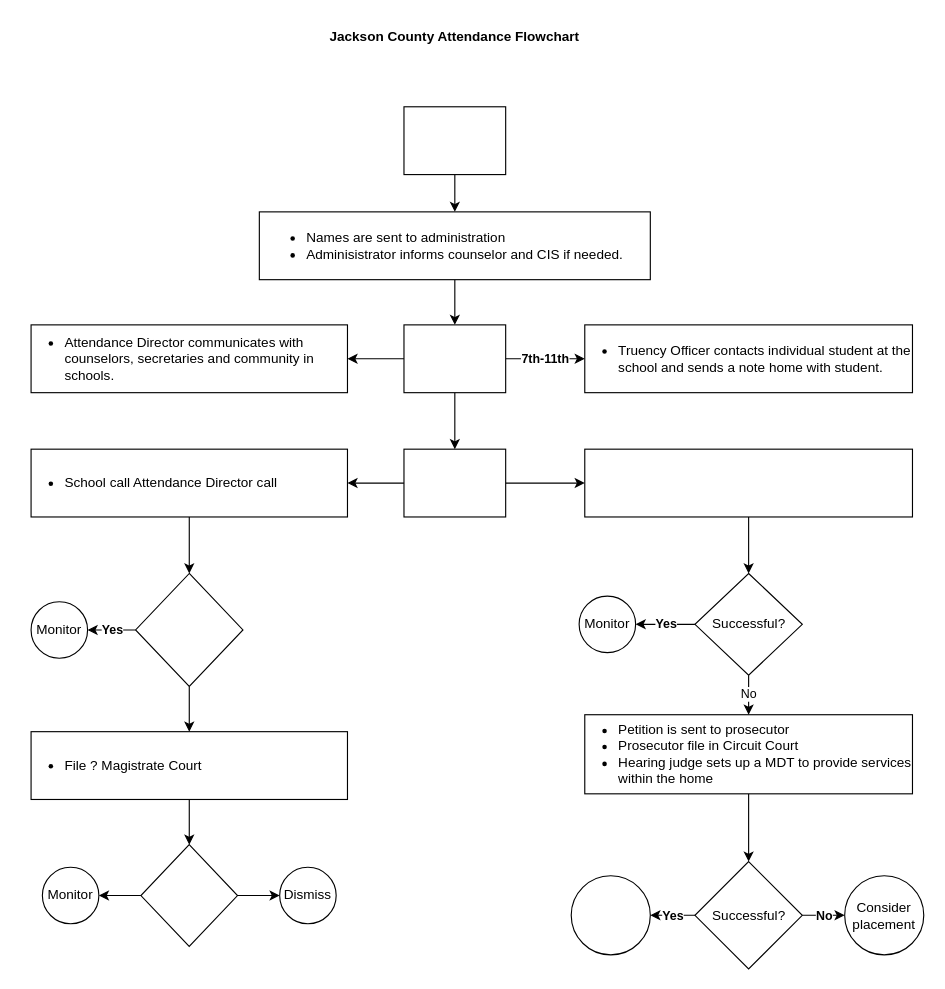
Some shapes in this 945 by 989 pixel diagram are drawn without their labels. Here are the shapes that lost their labels. From the top down, the centre of each, then its label:
At point (454, 140): "3 day letter".
At point (454, 358): "5 day letter".
At point (454, 482): "10 day letter".
At point (748, 482): "Attendance Director holds contract meeting with parents".
At point (188, 629): "Attendance Improves?".
At point (610, 915): "Monitor by courts".
